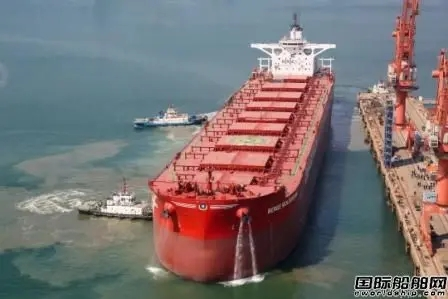Cargoship: (146, 8, 341, 281)
otherboat: (80, 174, 155, 220), (128, 100, 211, 126)
